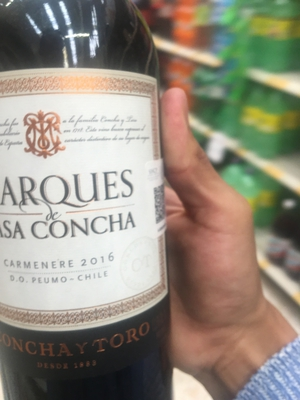marques de casa concha carmenere: (1, 24, 181, 399)
